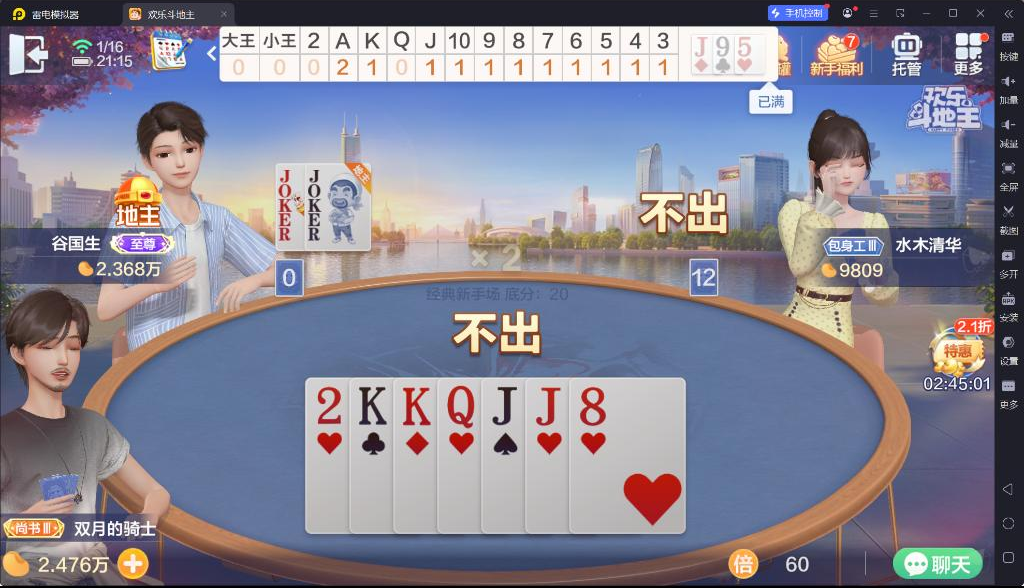J: (486, 383, 520, 429), (531, 384, 561, 427), (694, 36, 709, 57)
JOKER: (277, 167, 293, 215)
K: (398, 383, 434, 428), (354, 384, 390, 427)
Q: (445, 383, 477, 429)
eight: (577, 384, 609, 428)
five: (737, 35, 752, 57)
joker: (307, 168, 323, 216)
nine: (714, 36, 730, 57)
two: (313, 386, 345, 426)
